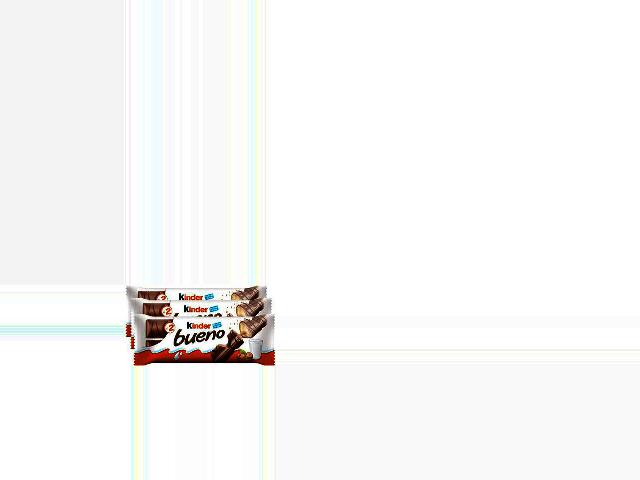chocolate: (126, 285, 271, 366)
